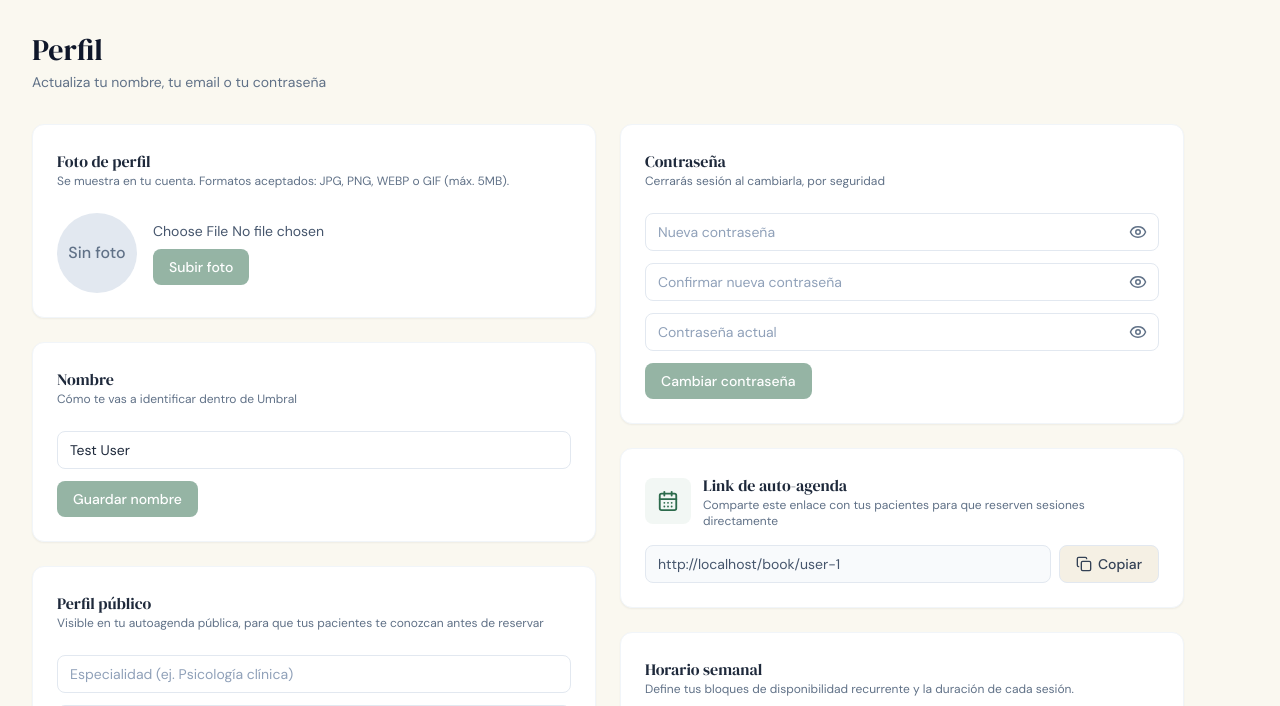
Test: ProfilePage — account-settings Req: Profile Section Scope › la nueva contraseña exige confirmación: si no coincide avisa y no permite guardar
The image size is (1280, 706).
Type "NuevaPass123!" into the password field labelled "Nueva contraseña".
click(902, 232); type("NuevaPass123!")  # box [645,213,1159,251]
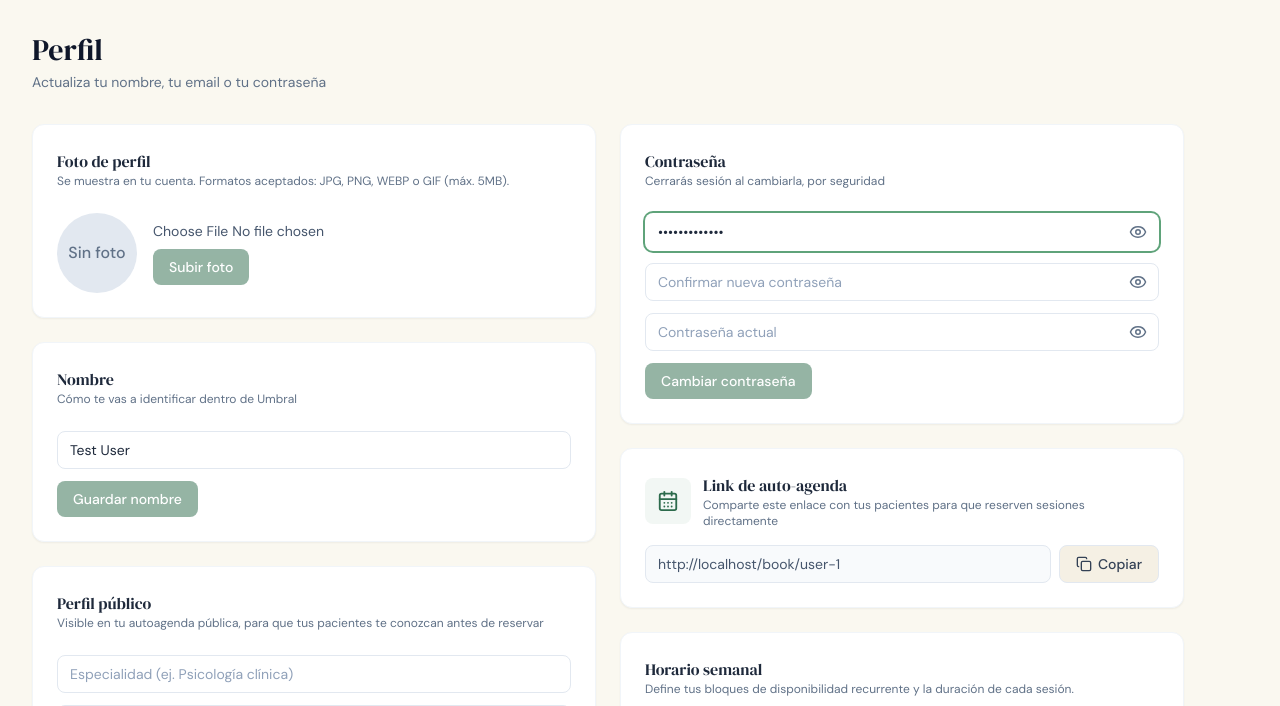
Type "Distinta123!" into the password field labelled "Confirmar nueva contraseña".
click(902, 282); type("Distinta123!")  # box [645,263,1159,301]
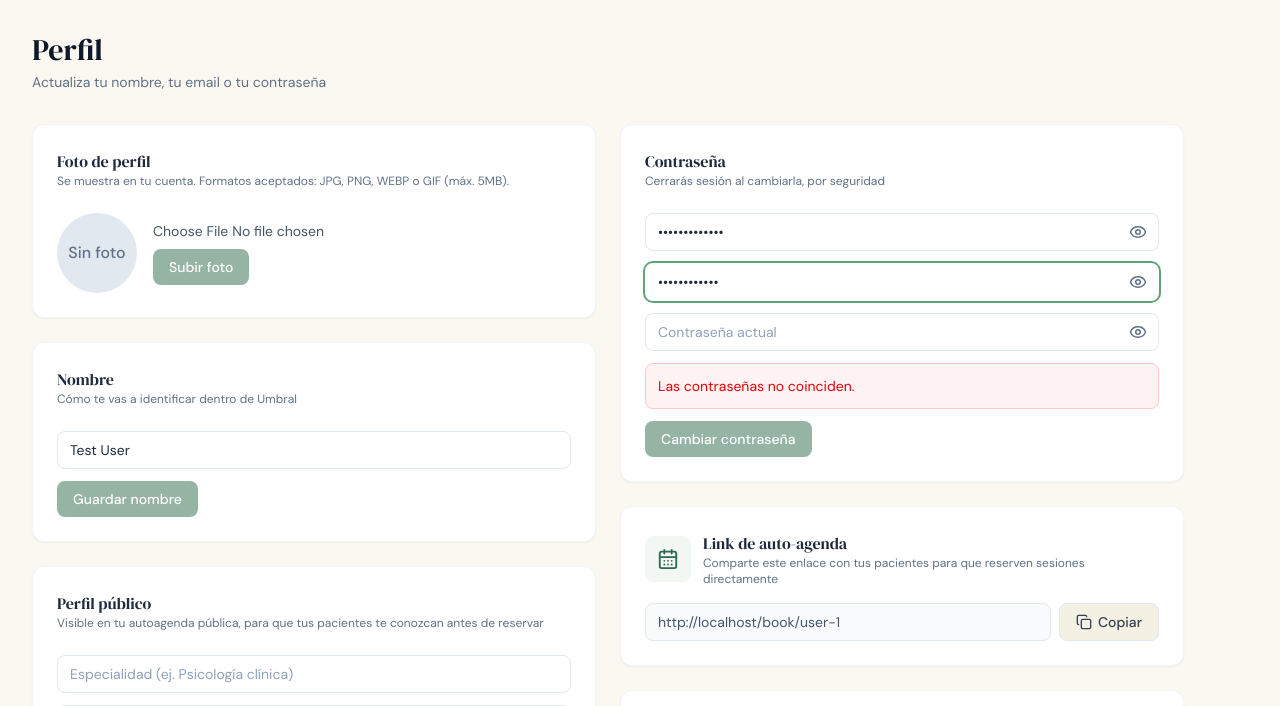
Type "Actual123!" into the password field named "Contraseña actual para cambiar contraseña".
click(902, 332); type("Actual123!")  # box [645,313,1159,351]
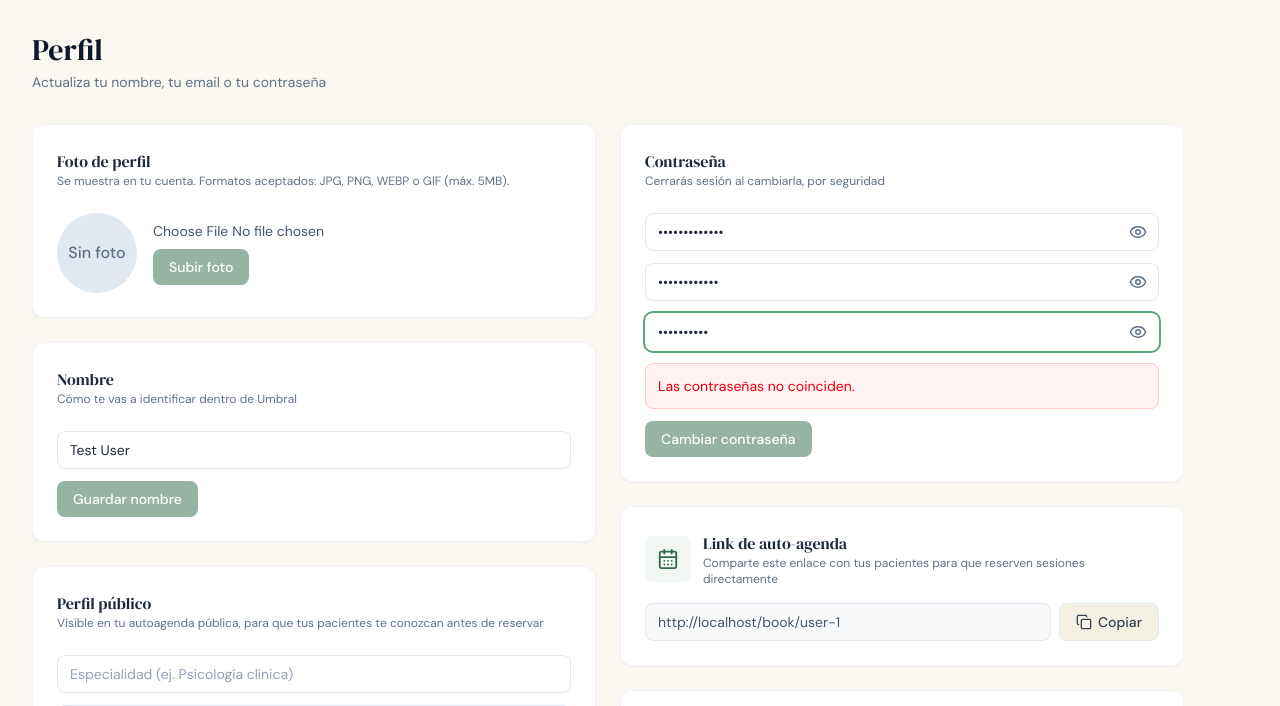
expect the button "Cambiar contraseña" is disabled: met, box [645,421,812,457]
expect the text "Las contraseñas no coinciden." is shown: met, box [658,377,854,395]
Type "NuevaPass123!" into the password field named "Confirmar nueva contraseña".
click(902, 282); type("NuevaPass123!")  # box [645,263,1159,301]
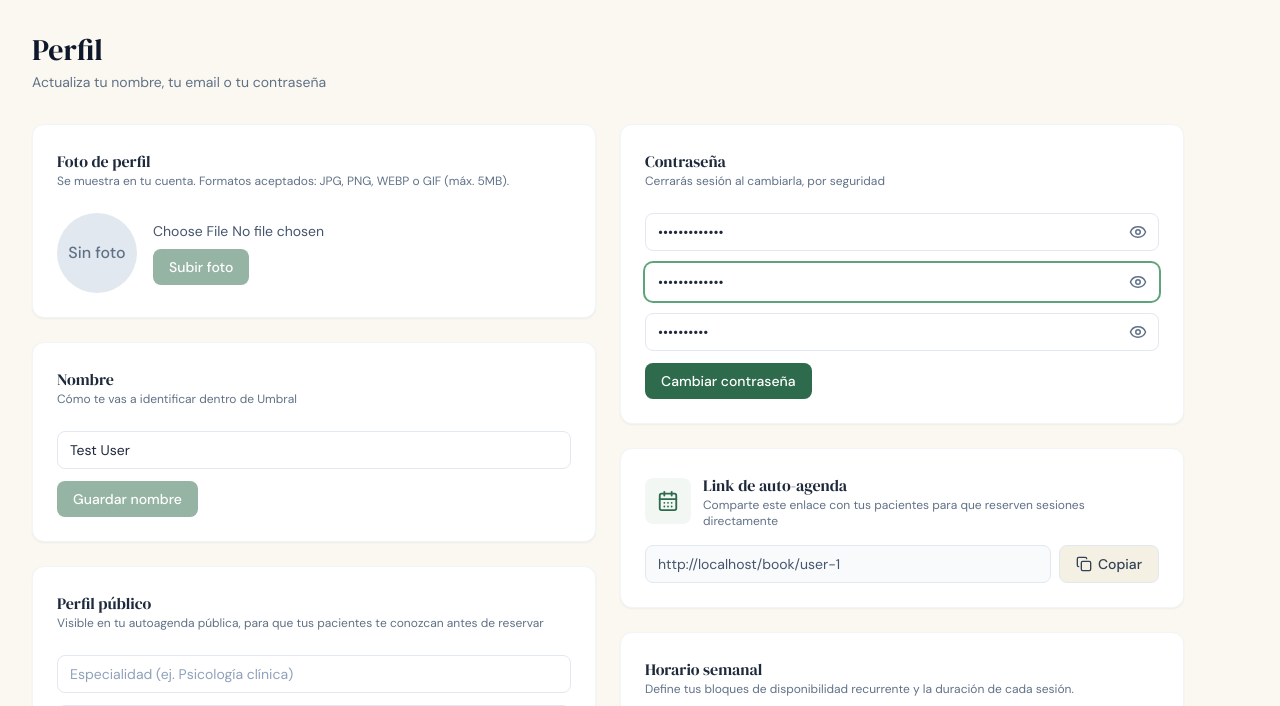
expect the text "Las contraseñas no coinciden." is not shown: met
expect the button "Cambiar contraseña" is enabled: met, box [645,363,812,399]
